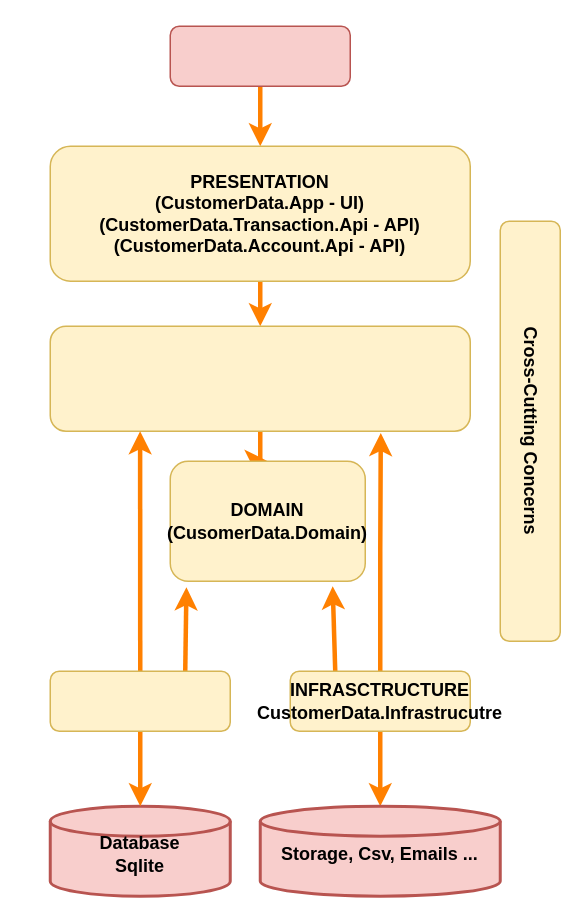
Image size: 587x924. Some labels were removed from this diagram. The shapes that lost their labels are listed below. From the top down, each one's centre as x and y in pixels, then its label:
At point (259, 55): "Users".
At point (259, 378): "APPLICATION (CustomerData.Application)".
At point (139, 700): "PERSISTENCE CustomerData.Persistence".
